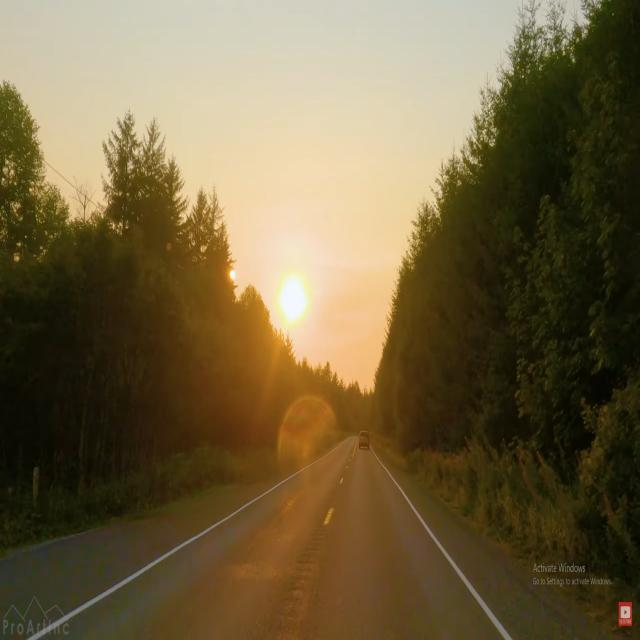sun: (274, 256, 312, 337)
